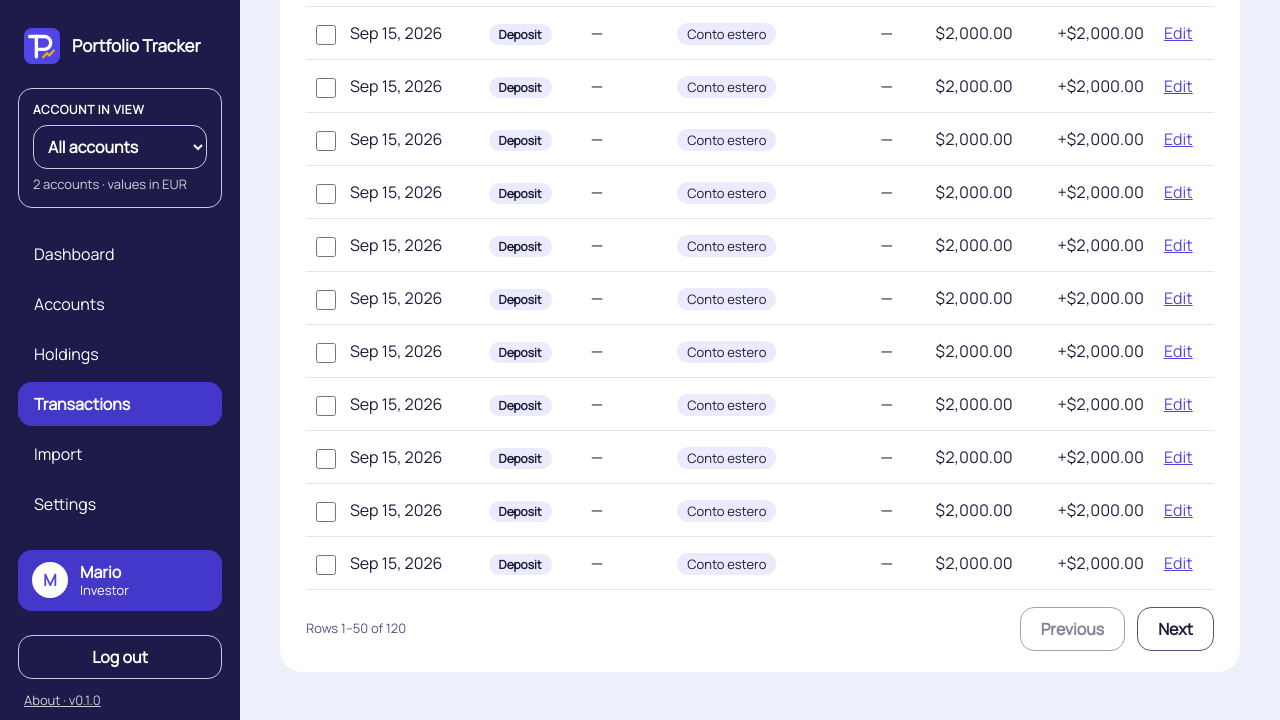
Test: transactions list › pages 50 rows at a time; a filter goes back to the first page
(page scrolled)
Expected: the text "Rows 1–50 of 120" is shown, [306,620,406,639]
Expected: the button "Previous" is disabled, [1020,607,1125,651]
Click the button "Next" at (1176, 629), box [1137,607,1214,651]
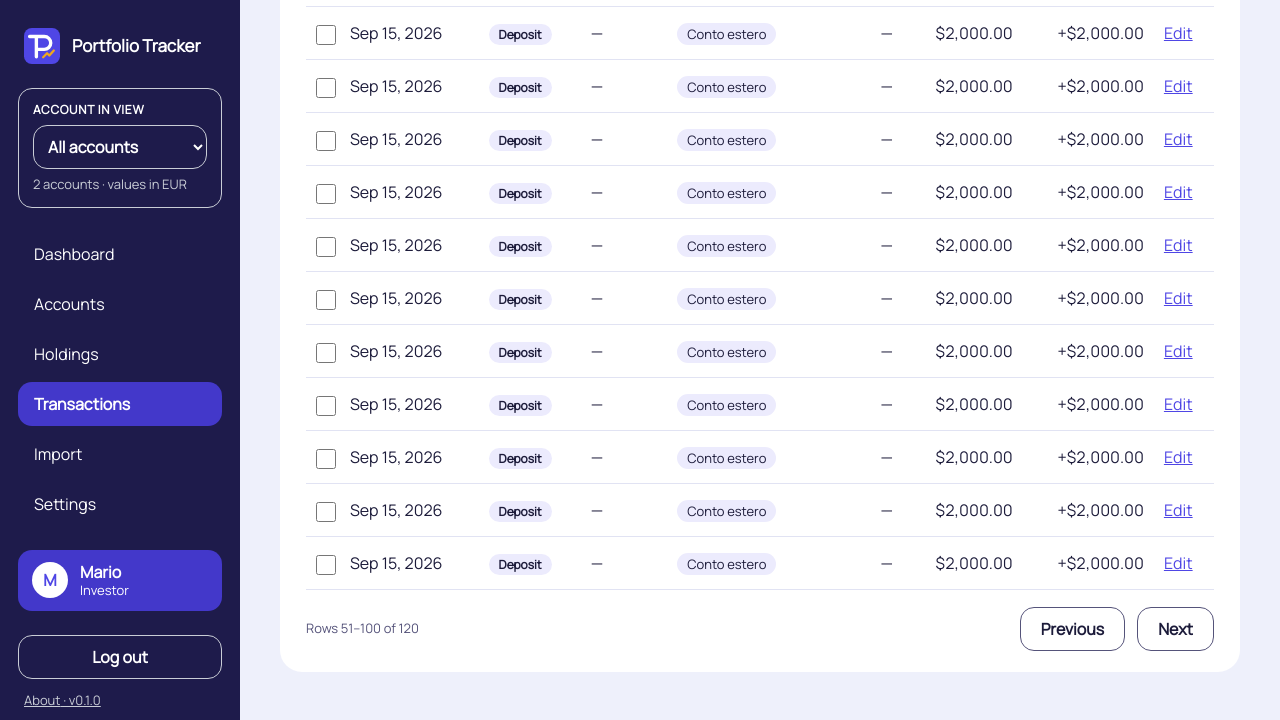
Expected: the text "Rows 51–100 of 120" is shown, [306,620,419,639]
Click the button "Next" at (1176, 629), box [1137,607,1214,651]
(page scrolled)
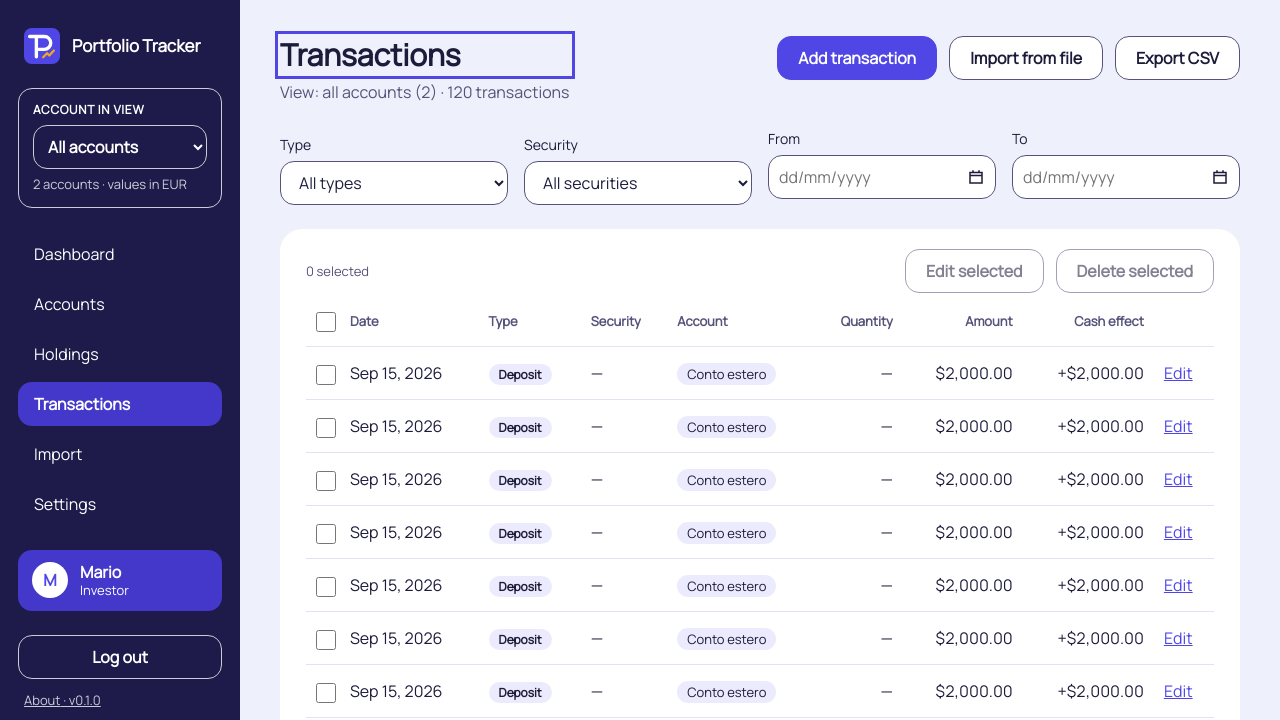
Select "Sell" in the dropdown labelled "Type" at (394, 182), box [280,160,508,204]
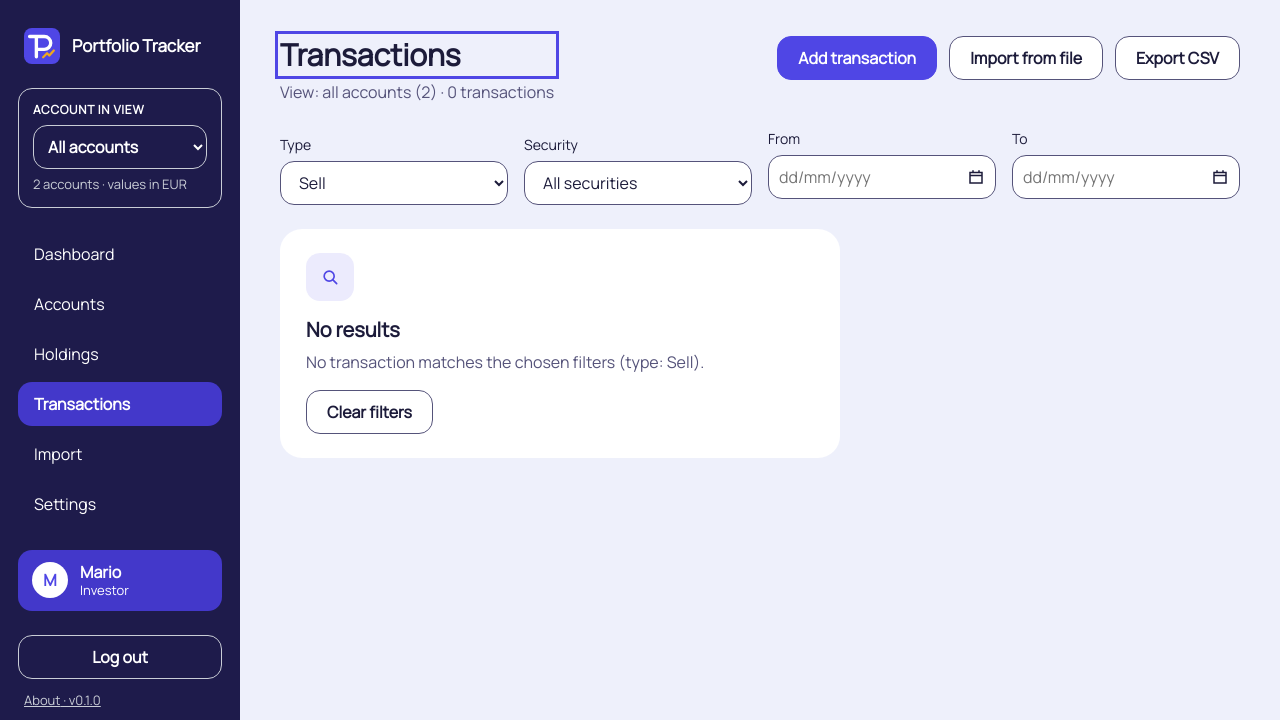
Expected: the heading "No results" is shown, [306,316,400,342]
